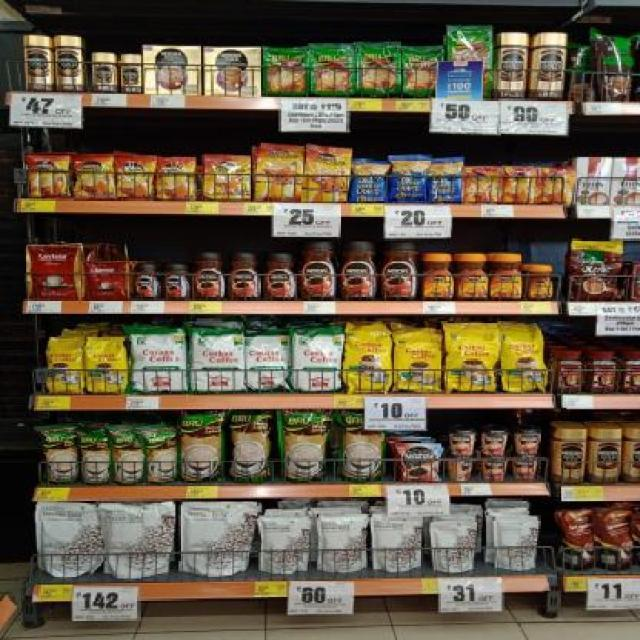Coffee: (305, 146, 349, 203), (256, 145, 300, 201), (379, 242, 418, 299), (339, 240, 377, 298), (533, 34, 565, 100), (301, 240, 337, 298), (204, 155, 250, 199), (498, 33, 528, 99), (73, 157, 115, 199), (557, 429, 587, 485), (193, 252, 227, 300), (488, 254, 525, 298), (55, 35, 84, 91), (28, 156, 66, 198), (116, 155, 154, 197), (157, 158, 195, 200), (25, 35, 53, 91), (262, 253, 296, 299), (399, 445, 440, 483), (592, 428, 620, 482), (228, 253, 260, 299), (456, 253, 488, 299), (424, 253, 455, 299), (92, 53, 116, 92), (163, 264, 189, 298), (133, 265, 159, 299), (527, 266, 554, 298), (120, 55, 141, 93)
